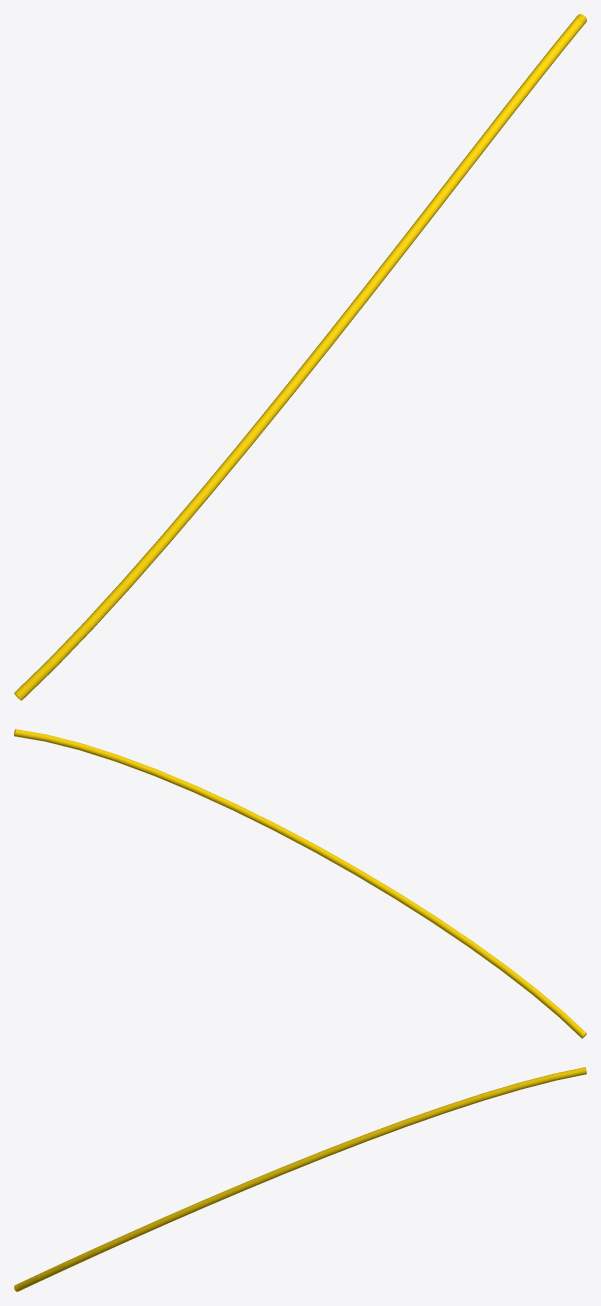
Rendered from Event_421364160_track_85.fbx.
The picture shows the model from 3 angles, top to bottom: view 1: azimuth 30°, elevation 25°; view 2: azimuth 150°, elevation 25°; view 3: azimuth 330°, elevation 25°; orthographic projection. The views are drawn at different scales.
Parts seen in each view (by area): view 1: Model; view 2: Model; view 3: Model.
Part boxes in pixels (left/top/right/bottom): Model: left=14, top=14, right=586, bottom=700; Model: left=14, top=729, right=586, bottom=1038; Model: left=14, top=1067, right=586, bottom=1291.
Bounding box in the file's own units: 3 × 1.61 × 1.12.
